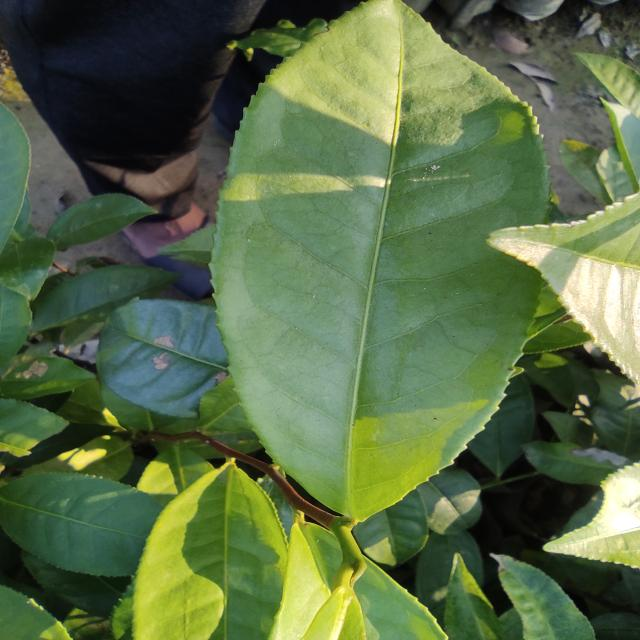Category D(7+ days, Not for Tea): (210, 6, 570, 528)
